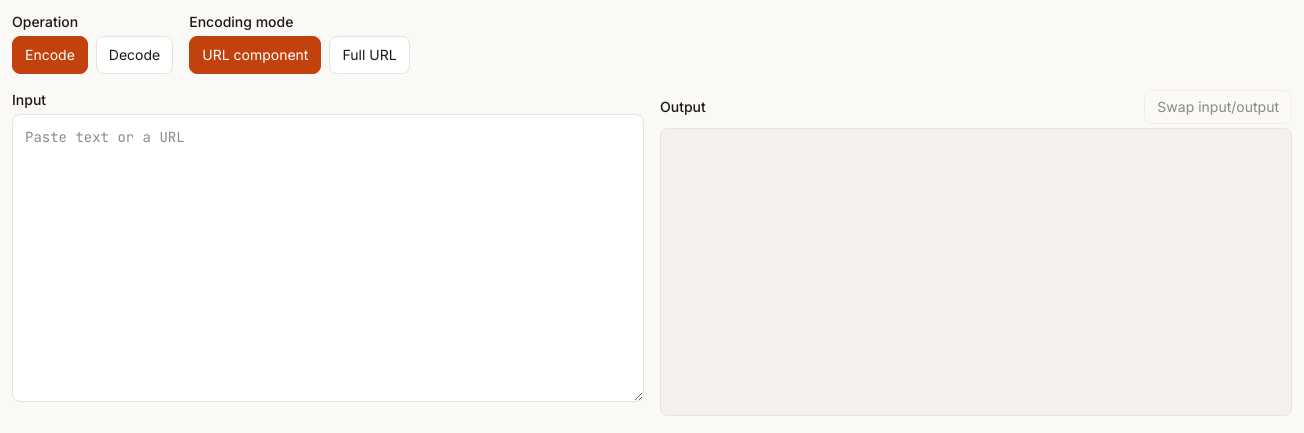
Test: UrlEncoderDecoder › round-trips Unicode and emoji when swapping from encode to decode
The width and height of the screenshot is (1304, 433).
Type "café 🚀" into the text box labelled "Input".
click(328, 258); type("café 🚀")  # box x1=12 y1=114 x2=644 y2=402
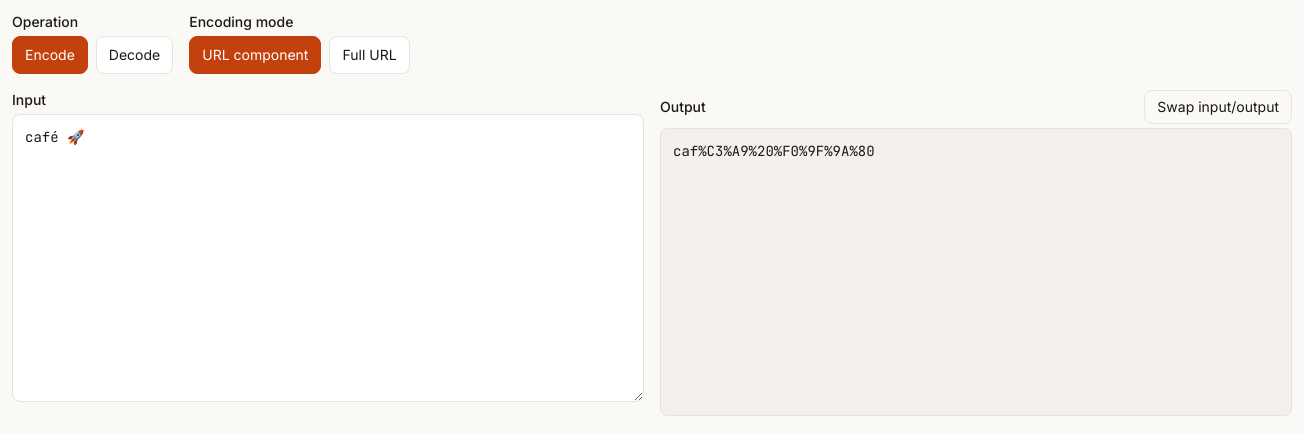
Expected: the text named "Output" reads "caf%C3%A9%20%F0%9F%9A%80", x1=673 y1=142 x2=875 y2=160
Click the button "Swap input/output".
click(1218, 107)  # box x1=1144 y1=90 x2=1292 y2=124
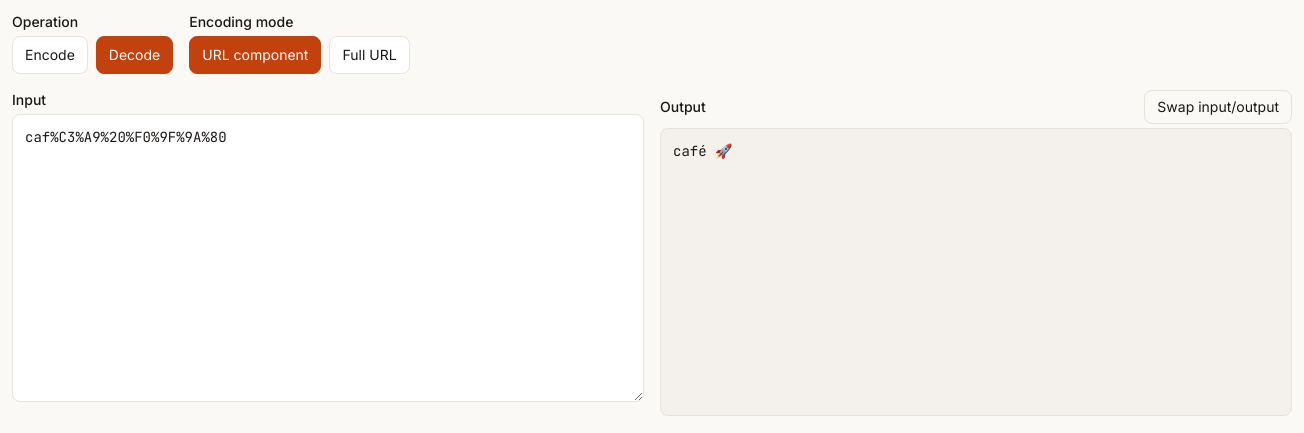
Expected: the text box labelled "Input" holds "caf%C3%A9%20%F0%9F%9A%80", x1=12 y1=114 x2=644 y2=402
Expected: the text named "Output" reads "café 🚀", x1=673 y1=142 x2=732 y2=160
